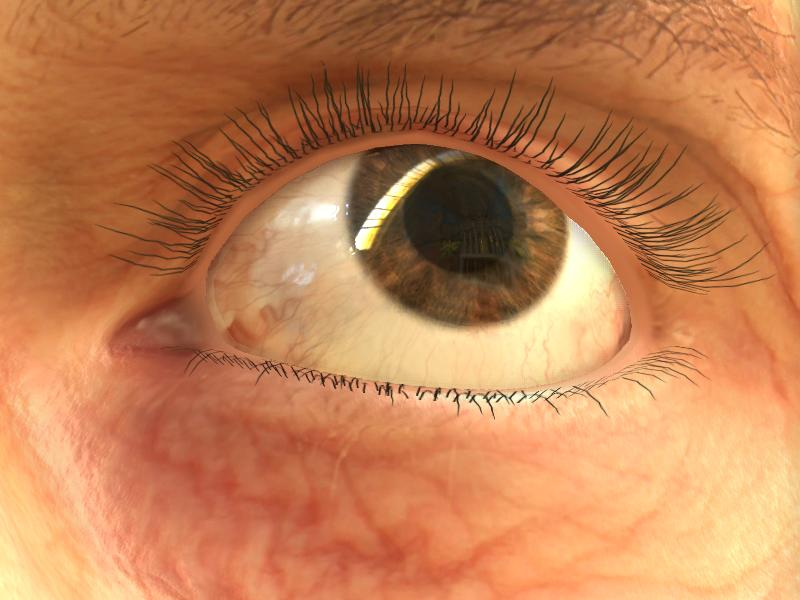eye: (349, 142, 566, 328)
